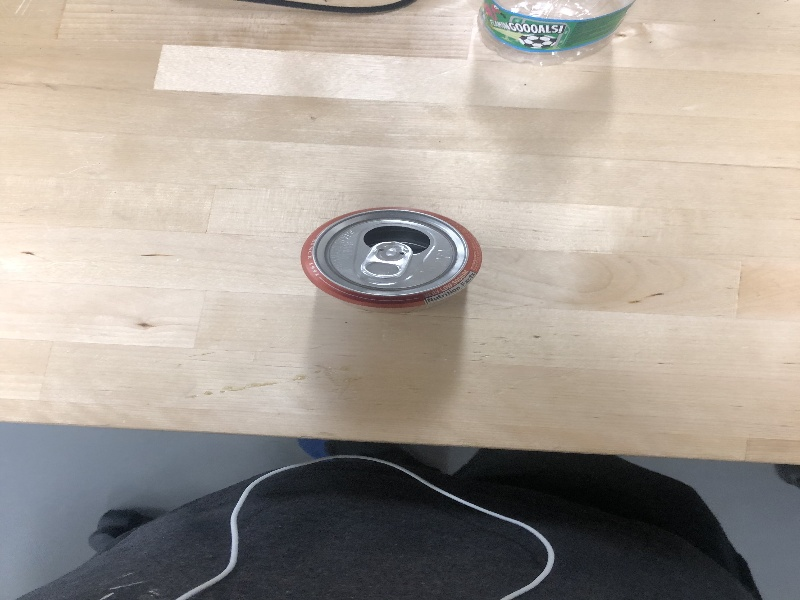metal: (299, 202, 494, 312)
plastic: (475, 1, 635, 66)
